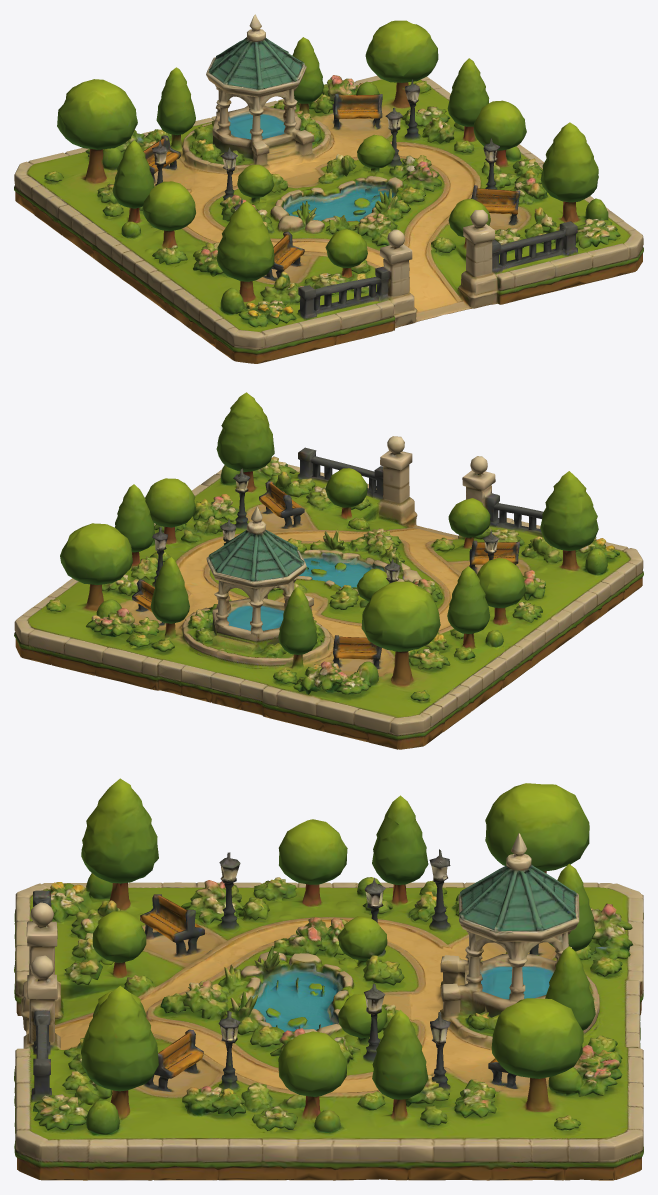
Rendered from park_stage2.glb.
The picture shows the model from 3 angles, top to bottom: view 1: azimuth 30°, elevation 25°; view 2: azimuth 150°, elevation 25°; view 3: azimuth 270°, elevation 25°; orthographic projection. The views are drawn at different scales.
Visible parts, largest first — view 1: tripo_node_1357dd66-0e14-4bb5-9e70-ca161482a8d4; view 2: tripo_node_1357dd66-0e14-4bb5-9e70-ca161482a8d4; view 3: tripo_node_1357dd66-0e14-4bb5-9e70-ca161482a8d4.
Boxes of the visible parts, left/top/right/bottom form: tripo_node_1357dd66-0e14-4bb5-9e70-ca161482a8d4: left=14, top=14, right=643, bottom=363; tripo_node_1357dd66-0e14-4bb5-9e70-ca161482a8d4: left=14, top=392, right=643, bottom=749; tripo_node_1357dd66-0e14-4bb5-9e70-ca161482a8d4: left=14, top=778, right=643, bottom=1180.
Size of the model in its own units: 0.9924 by 0.3781 by 1.
1 material, 1 textured.
